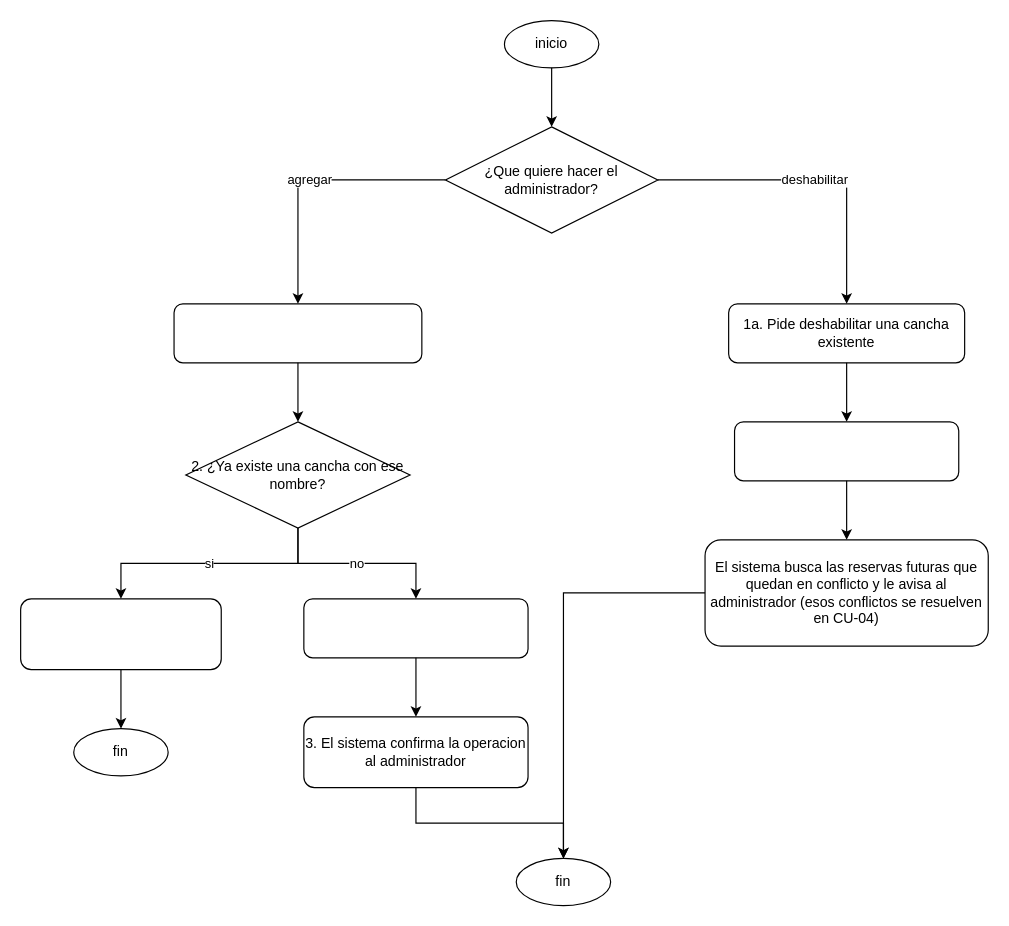
Some shapes in this 1009 by 926 pixel diagram are drawn without their labels. Each missing label, with the box of its shape:
1. Pide agregar una cancha con nombre y deporte: (173, 303, 422, 363)
2. El sistema registra la cancha como activa: (303, 598, 528, 658)
2a. Se rechaza el registro: nombre repetido: (19, 598, 221, 670)
El sistema marca la cancha como inactiva: (733, 421, 959, 481)
